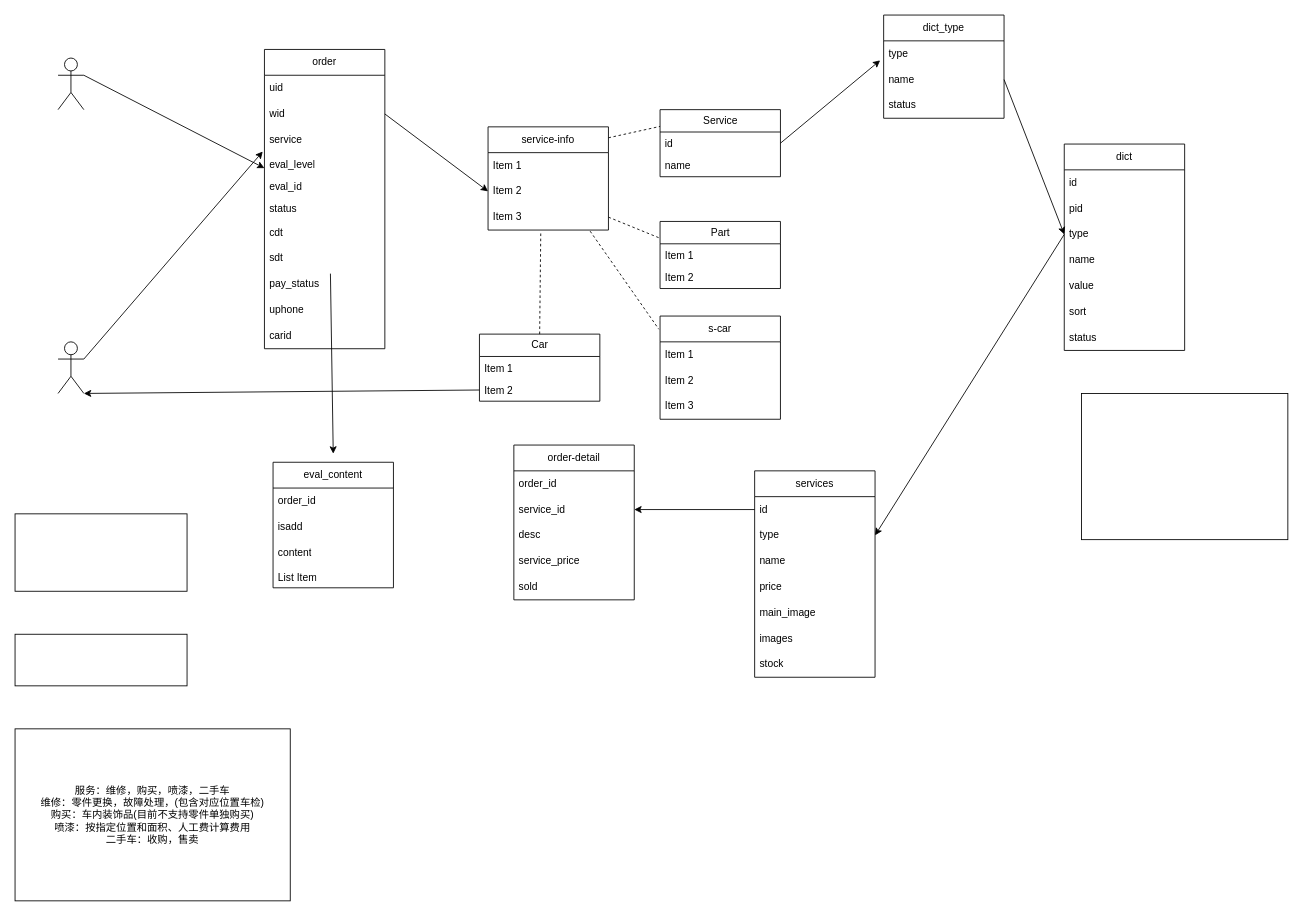
The diagram is 1303 pixels wide and 916 high, and some of its shapes have lost their labels. Here are the shapes that lost their labels. From the top down, the centre of each, then its label:
At [70,83]: "Waiter".
At [70,367]: "User".
At [1184,466]: "机油 维修 喷漆 洗车 车检 装饰 配件 保险 救援 二手车".
At [100,552]: "1. 用户创建订单 1.1 订单选择服务类型 1.1.1 服务选择内容类型，并根据不同内容类型选择具体内容 2. 订单完成后，验收 2.1 验收完成后支付费用".
At [100,659]: "店铺根据日期时间排序选择订单服务".
